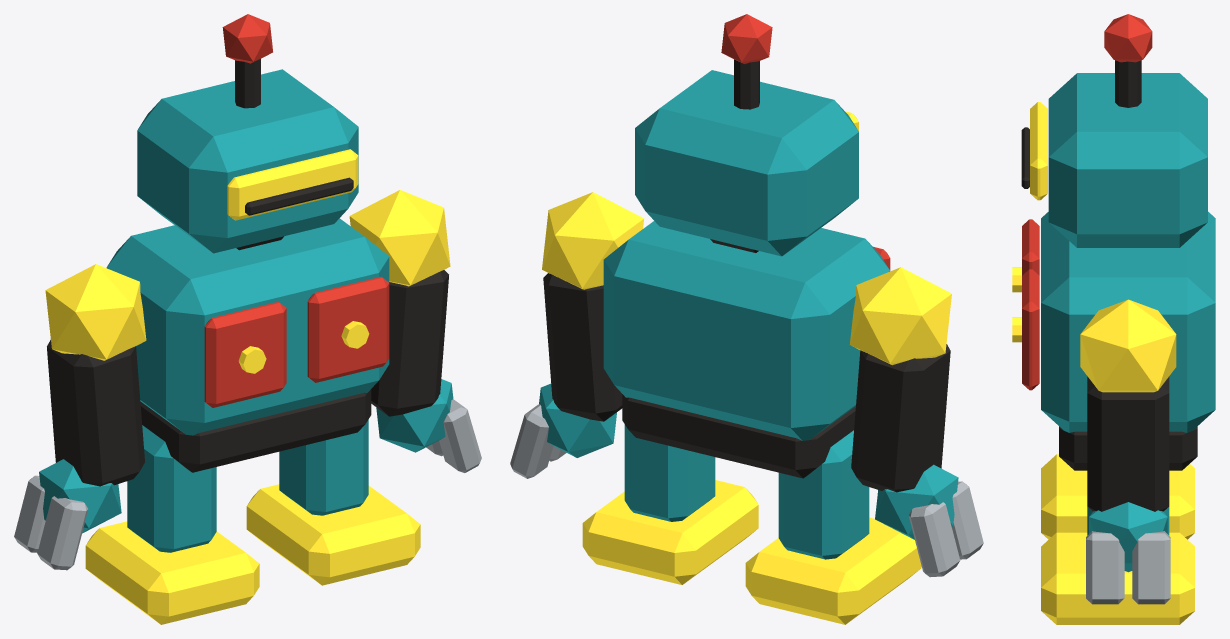
Rendered from robots.glb.
The picture shows the model from 3 angles, left to right: view 1: azimuth 30°, elevation 25°; view 2: azimuth 150°, elevation 25°; view 3: azimuth 270°, elevation 25°; orthographic projection.
Parts seen in each view (by area): view 1: robots-teal-torso, robots-teal-head, robots-left-yellow-foot, robots-black-arm-0, robots-right-yellow-foot, robots-black-hip, robots-black-arm-1, robots-left-teal-shin, robots-yellow-shoulder-0, robots-red-chest-right, robots-red-chest-left, robots-yellow-shoulder-1 (+10 smaller); view 2: robots-teal-torso, robots-teal-head, robots-black-arm-0, robots-left-yellow-foot, robots-right-yellow-foot, robots-black-hip, robots-black-arm-1, robots-left-teal-shin, robots-yellow-shoulder-0, robots-yellow-shoulder-1, robots-right-teal-shin, robots-teal-hand-0 (+6 smaller); view 3: robots-teal-head, robots-teal-torso, robots-black-arm-1, robots-right-yellow-foot, robots-yellow-shoulder-1, robots-left-yellow-foot, robots-claw-front-1, robots-claw-back-1, robots-teal-hand-1, robots-black-hip, robots-red-chest-right, robots-red-antenna-light (+4 smaller).
Part boxes in pixels (<box>): robots-teal-torso: <box>106,218,389,435</box>; robots-teal-head: <box>137,69,358,253</box>; robots-left-yellow-foot: <box>85,521,259,624</box>; robots-black-arm-0: <box>47,339,144,486</box>; robots-right-yellow-foot: <box>246,484,420,585</box>; robots-black-hip: <box>140,389,371,472</box>; robots-black-arm-1: <box>371,270,448,416</box>; robots-left-teal-shin: <box>127,425,216,552</box>; robots-yellow-shoulder-0: <box>45,264,146,360</box>; robots-red-chest-right: <box>307,276,389,382</box>; robots-red-chest-left: <box>204,301,286,407</box>; robots-yellow-shoulder-1: <box>349,190,450,286</box>; robots-teal-torso: <box>603,221,889,440</box>; robots-teal-head: <box>635,70,858,256</box>; robots-black-arm-0: <box>851,344,950,492</box>; robots-left-yellow-foot: <box>745,517,921,624</box>; robots-right-yellow-foot: <box>582,480,758,584</box>; robots-black-hip: <box>622,394,855,478</box>; robots-black-arm-1: <box>543,273,622,421</box>; robots-left-teal-shin: <box>778,430,869,559</box>; robots-yellow-shoulder-0: <box>849,267,951,365</box>; robots-yellow-shoulder-1: <box>542,192,643,289</box>; robots-right-teal-shin: <box>624,424,715,521</box>; robots-teal-hand-0: <box>875,464,958,539</box>; robots-teal-head: <box>1048,73,1207,247</box>; robots-teal-torso: <box>1041,211,1215,432</box>; robots-black-arm-1: <box>1087,376,1169,511</box>; robots-right-yellow-foot: <box>1041,532,1194,624</box>; robots-yellow-shoulder-1: <box>1080,299,1176,392</box>; robots-left-yellow-foot: <box>1041,454,1194,539</box>; robots-claw-front-1: <box>1086,531,1124,604</box>; robots-claw-back-1: <box>1132,531,1170,604</box>; robots-teal-hand-1: <box>1089,502,1167,572</box>; robots-black-hip: <box>1059,426,1197,470</box>; robots-red-chest-right: <box>1022,269,1039,390</box>; robots-red-antenna-light: <box>1104,14,1152,62</box>.
Bounding box in the file's own units: 0.8143 × 1 × 0.3342.
